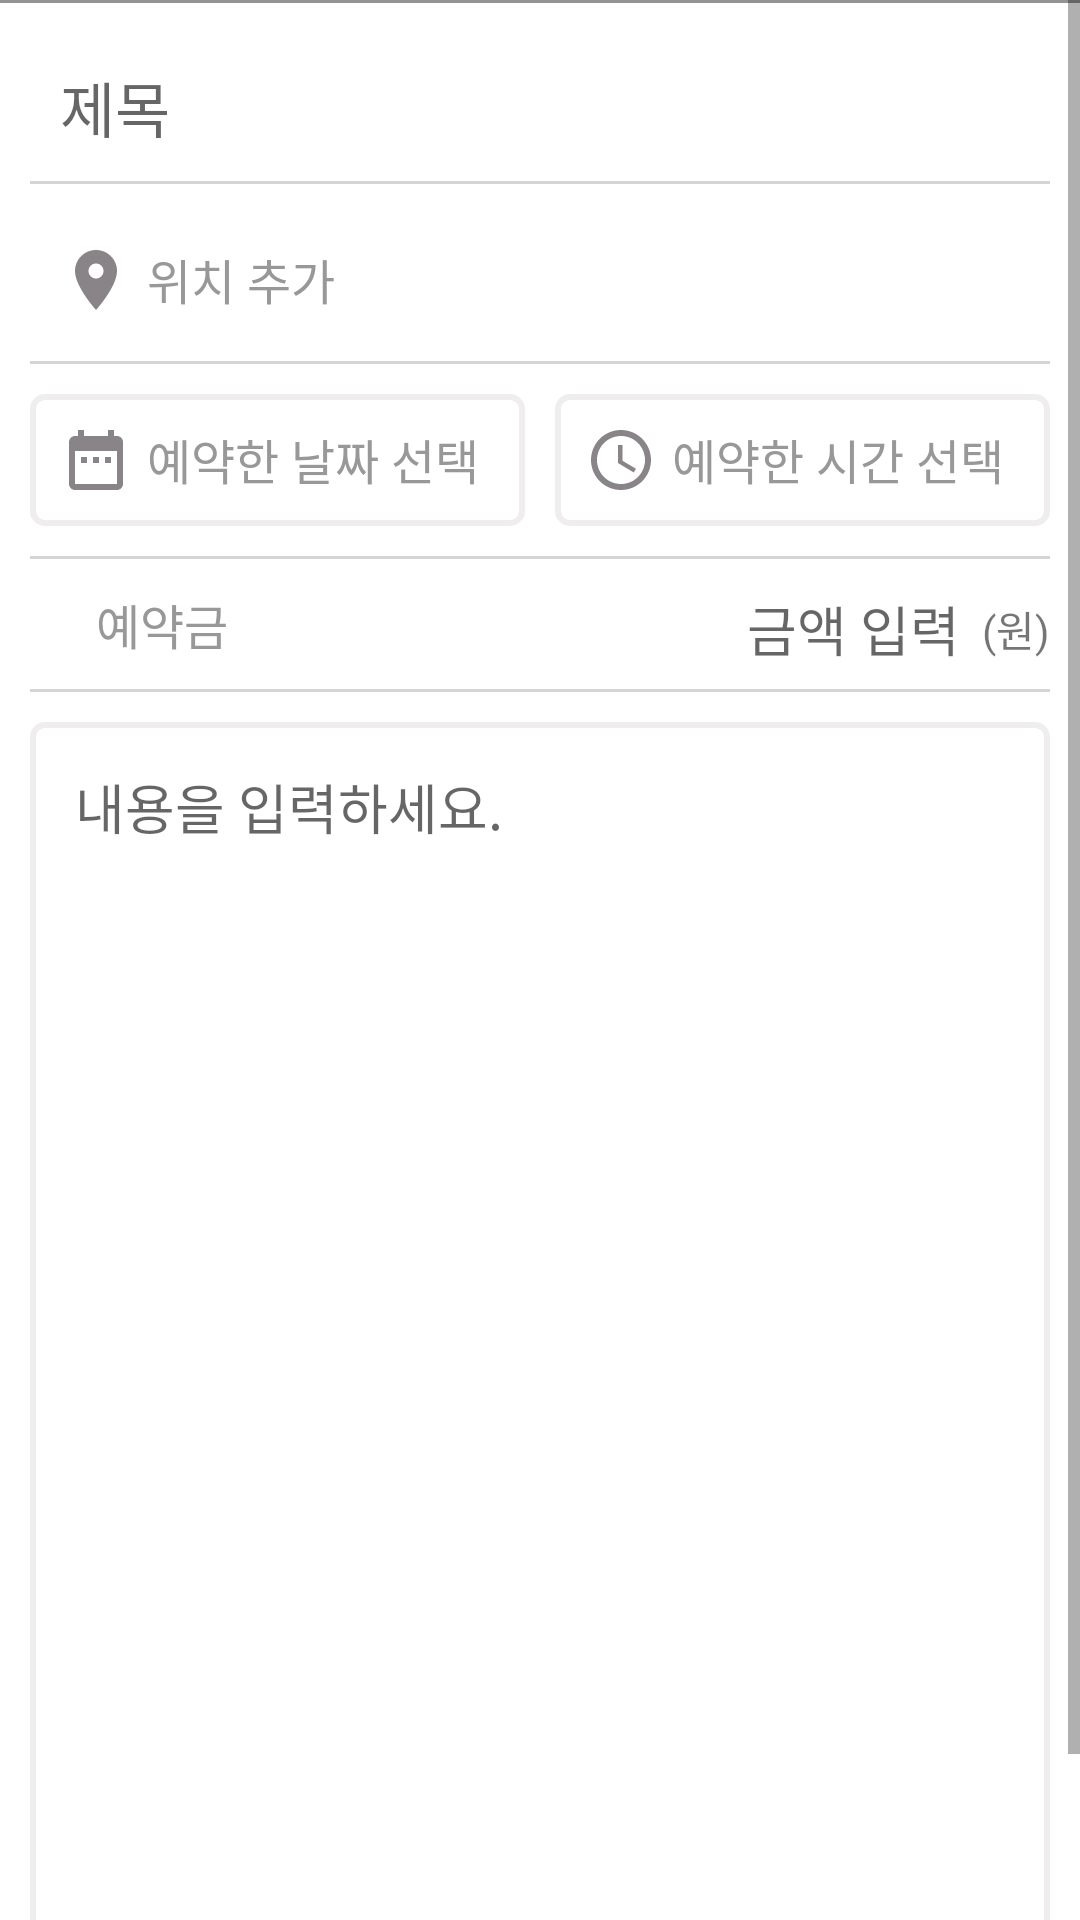

Icons on this 1080w x 1920h Android screen, each with the point to tap as (x=x, y=y):
date: (x=96, y=460)
location: (x=96, y=280)
time: (x=621, y=460)
